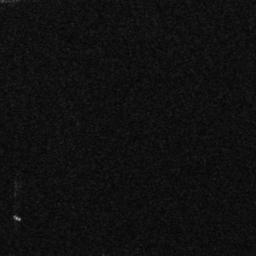ship: (11, 214, 21, 222)
